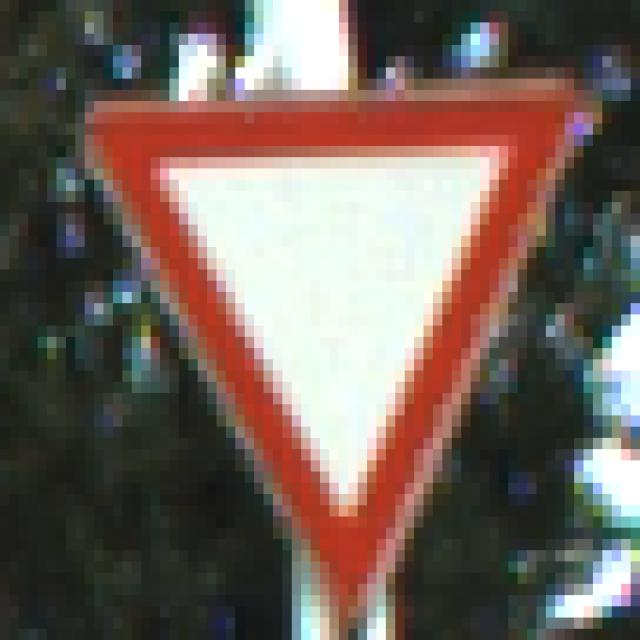Give Way: (67, 57, 584, 585)
